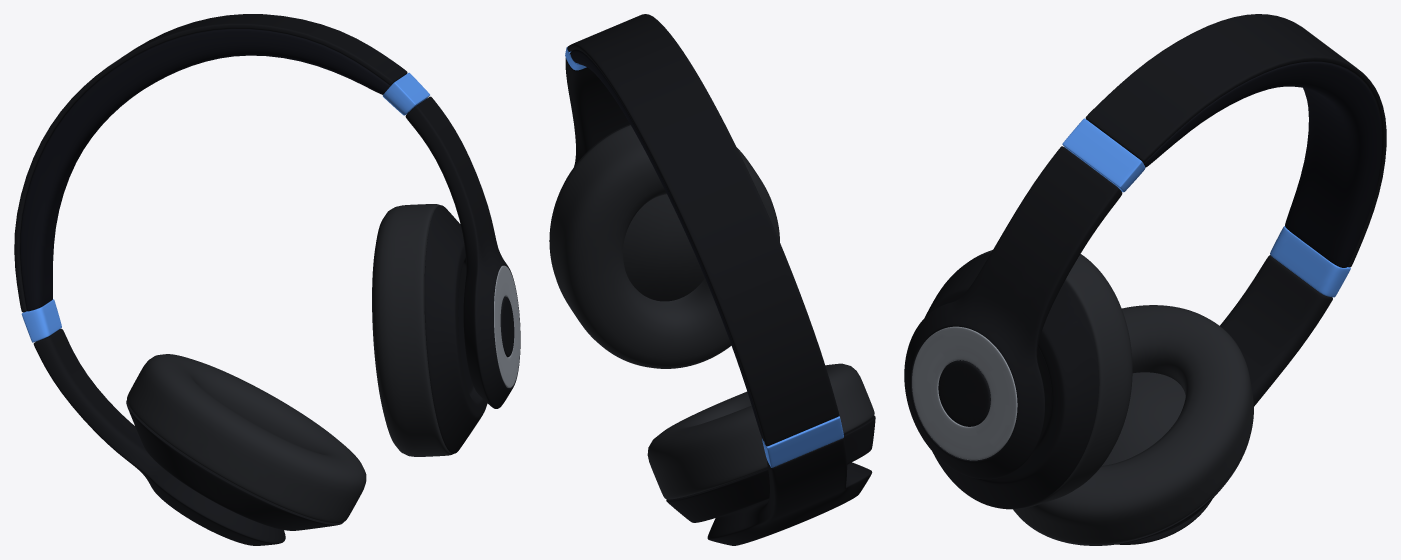
File: headphones.glb
3 renders of one model, left to right at view 1: azimuth 30°, elevation 25°; view 2: azimuth 150°, elevation 25°; view 3: azimuth 270°, elevation 25°, orthographic. The views are drawn at different scales.
Visible parts, largest first — view 1: Node1, Node3, Node7, Node5; view 2: Node1, Node3, Node5, Node7; view 3: Node1, Node3, Node7, Node5.
Part boxes in pixels (x1,y1,x2,y2): Node1: (14, 14, 520, 545); Node3: (127, 204, 453, 523); Node7: (20, 28, 391, 311); Node5: (21, 72, 520, 387); Node1: (549, 14, 875, 545); Node3: (550, 125, 874, 499); Node5: (565, 47, 843, 527); Node7: (570, 49, 763, 440); Node1: (904, 14, 1386, 545); Node3: (969, 250, 1253, 544); Node7: (1142, 61, 1381, 267); Node5: (912, 118, 1350, 460).
Size of the model in its own units: 1.66 by 2.01 by 1.66.
4 materials, 4 textured.
